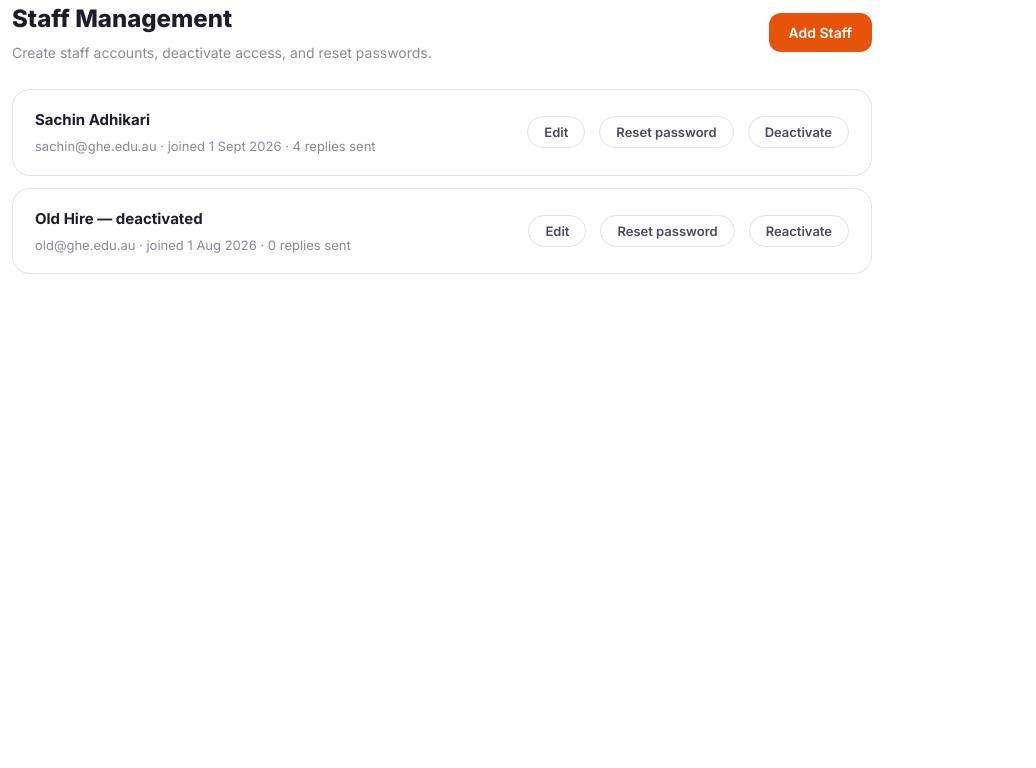
shows the create-staff form when Add Staff is clicked
Expected: the text "Sachin Adhikari" is shown, [35,110,150,129]
Click the button "Add Staff": (820, 32) [768,13,872,52]
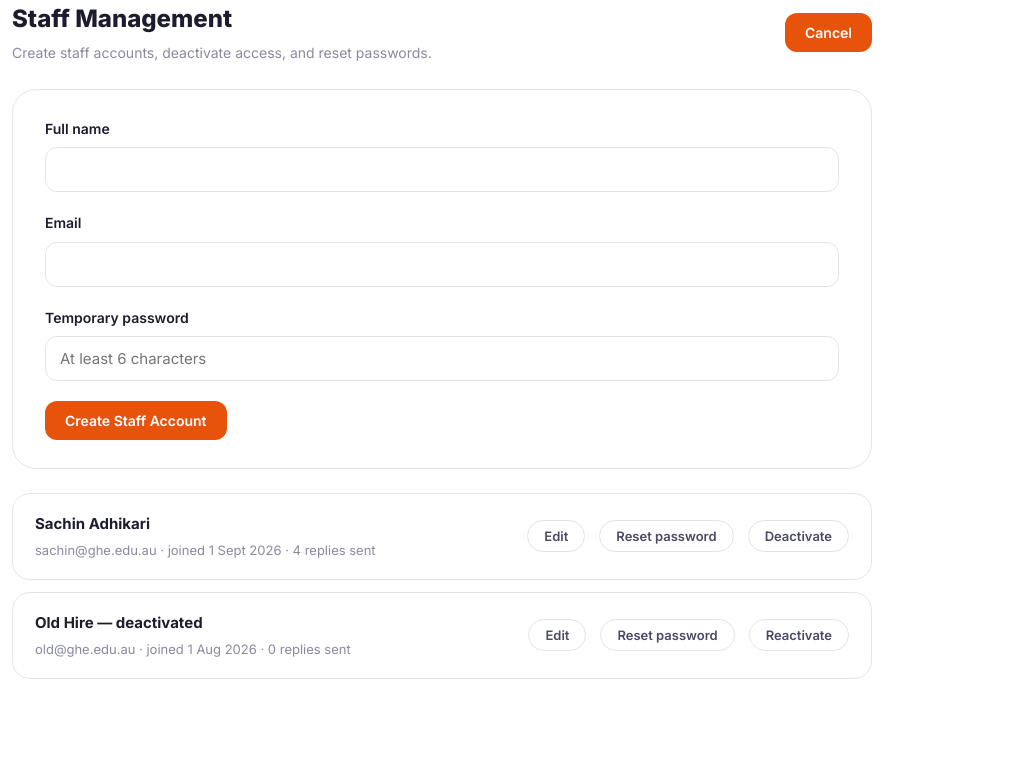
Now the field labelled "Full name" is shown, box [45,147,839,192]
Now the button "Create Staff Account" is shown, box [45,401,226,440]
